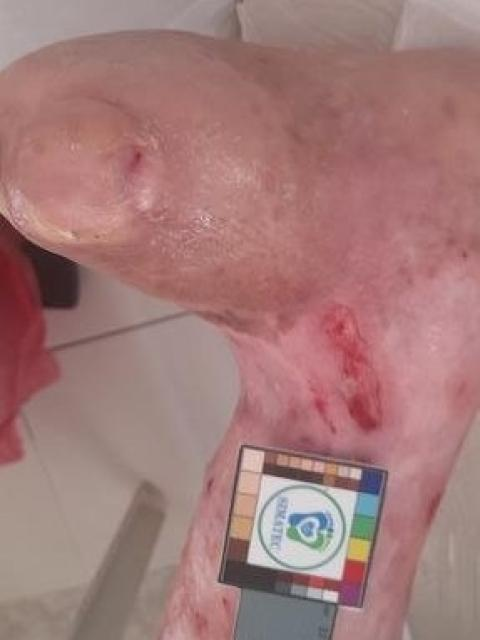wound: (323, 304, 386, 433), (313, 383, 338, 435)
